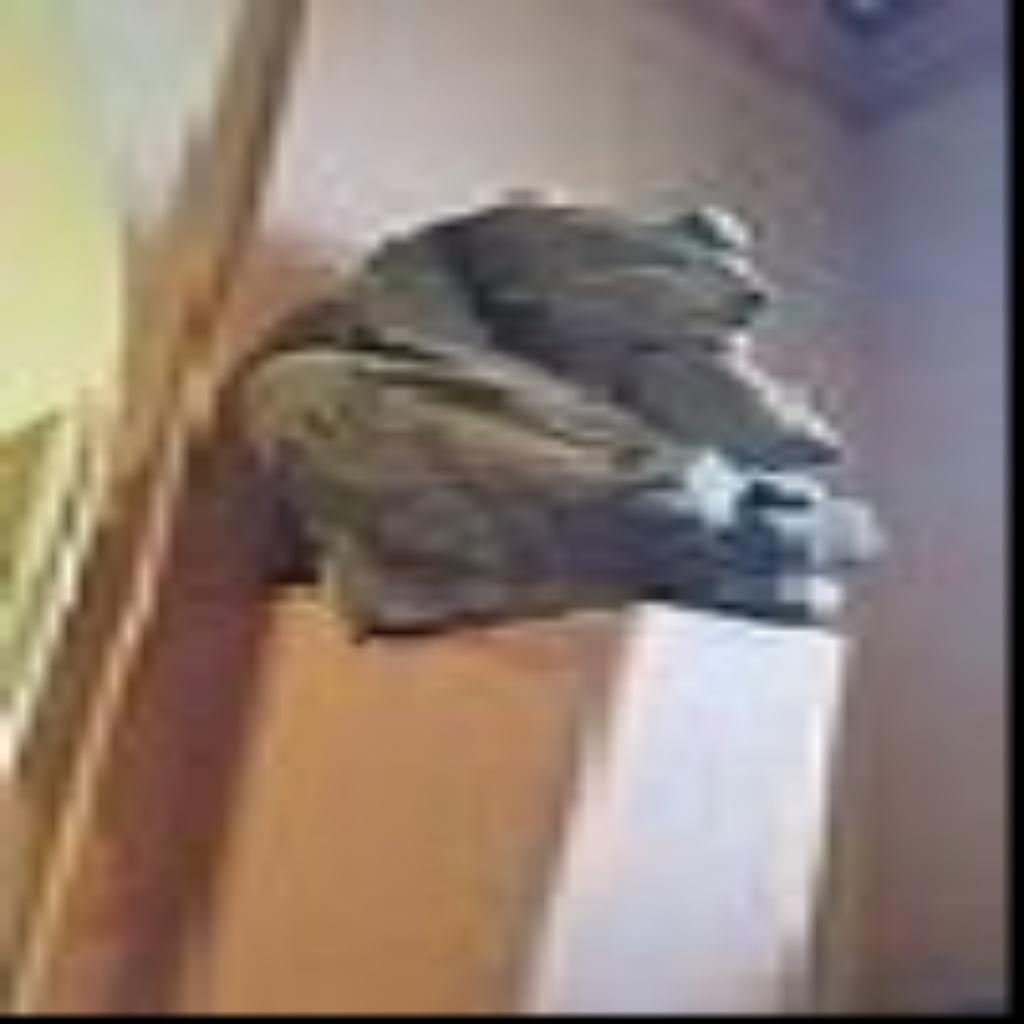Akhenaten: (214, 180, 886, 646)
